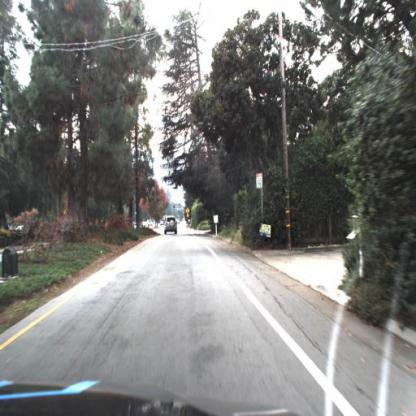car: (162, 212, 180, 235)
